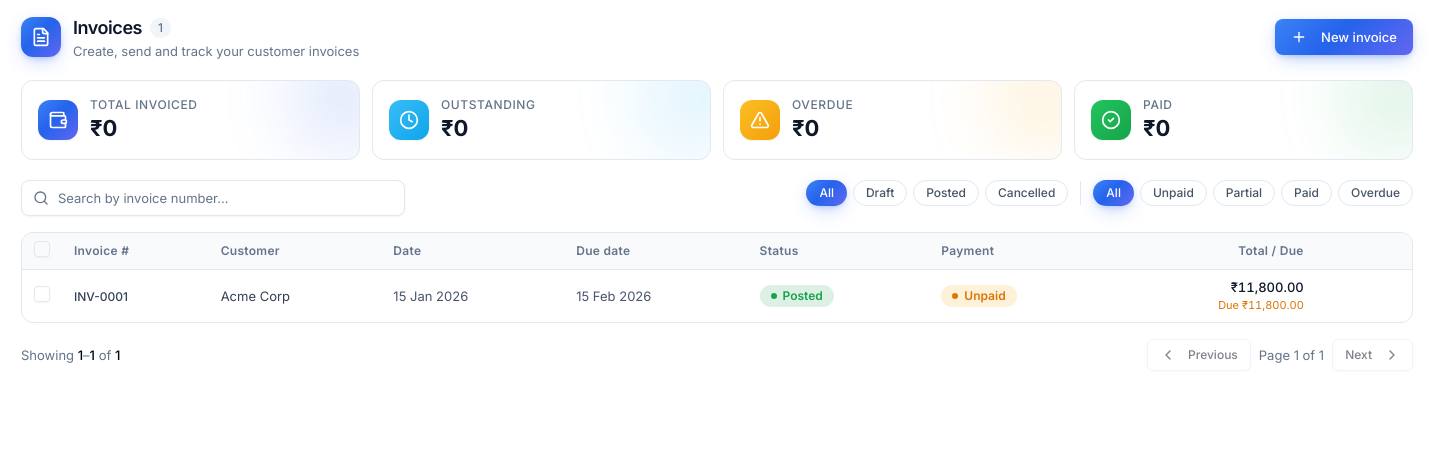
Scenario: InvoicesView › shows the bulk bar with the Record payment button once a row is selected
The width and height of the screenshot is (1435, 462).
Expected: the button "record payment" is not shown
Click the checkbox named "Select INV-0001": point(42, 294) x1=34 y1=286 x2=50 y2=302
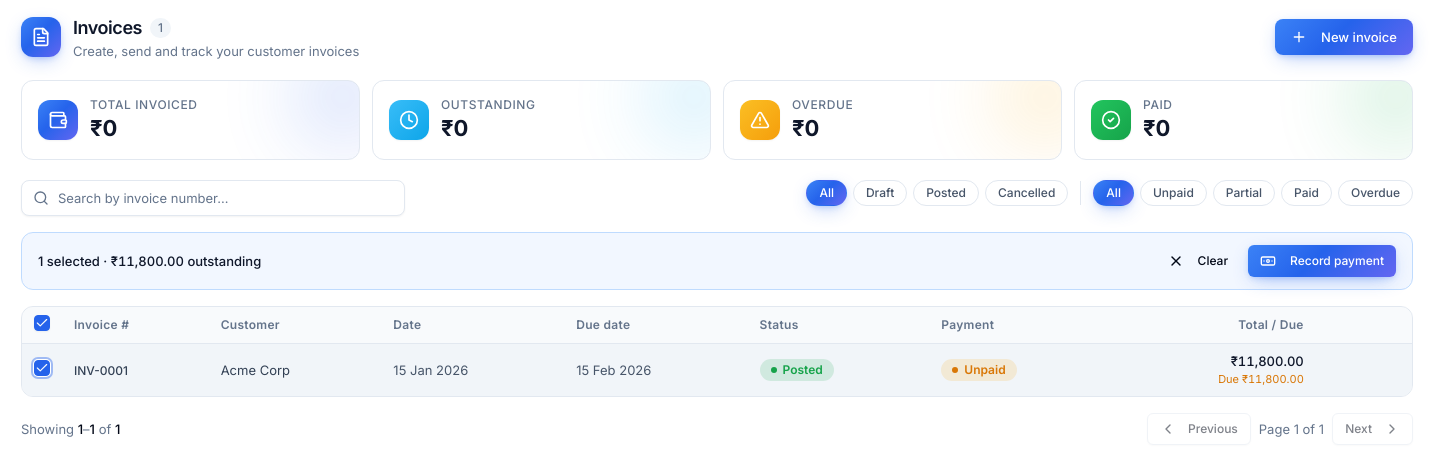
Now the text "1 selected · ₹11,800.00 outstanding" is shown, box x1=38 y1=252 x2=261 y2=270
Now the button "Record payment" is enabled, box x1=1248 y1=245 x2=1396 y2=277
